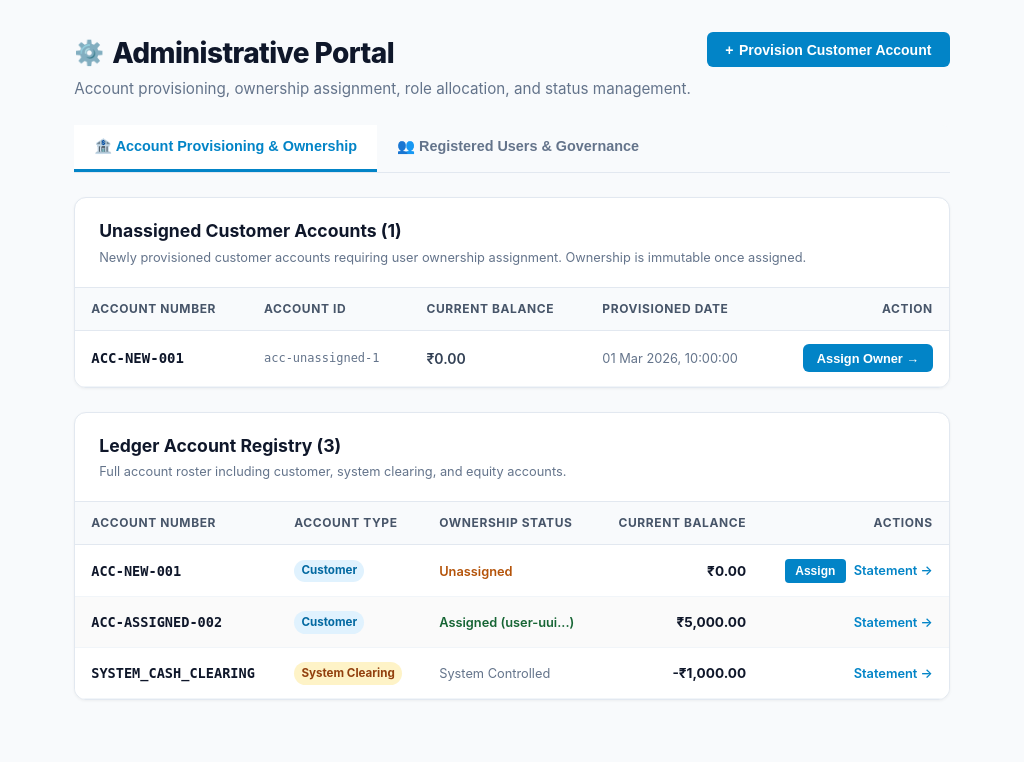
Scenario: Admin Portal Component & Integration Suite (Stage 6) › 5. AdminPortalPage Integration › fetches accounts and registered users and links directory selection to governance controls
Check: the heading "Administrative Portal" is shown, box [112,32,394,74]
Check: the heading "Unassigned Customer Accounts (1)" is shown, box [99,220,402,241]
// Switch to Registered Users & Governance tab
Click the button with test id "admin-tab-users": click(518, 148) [377,125,659,172]
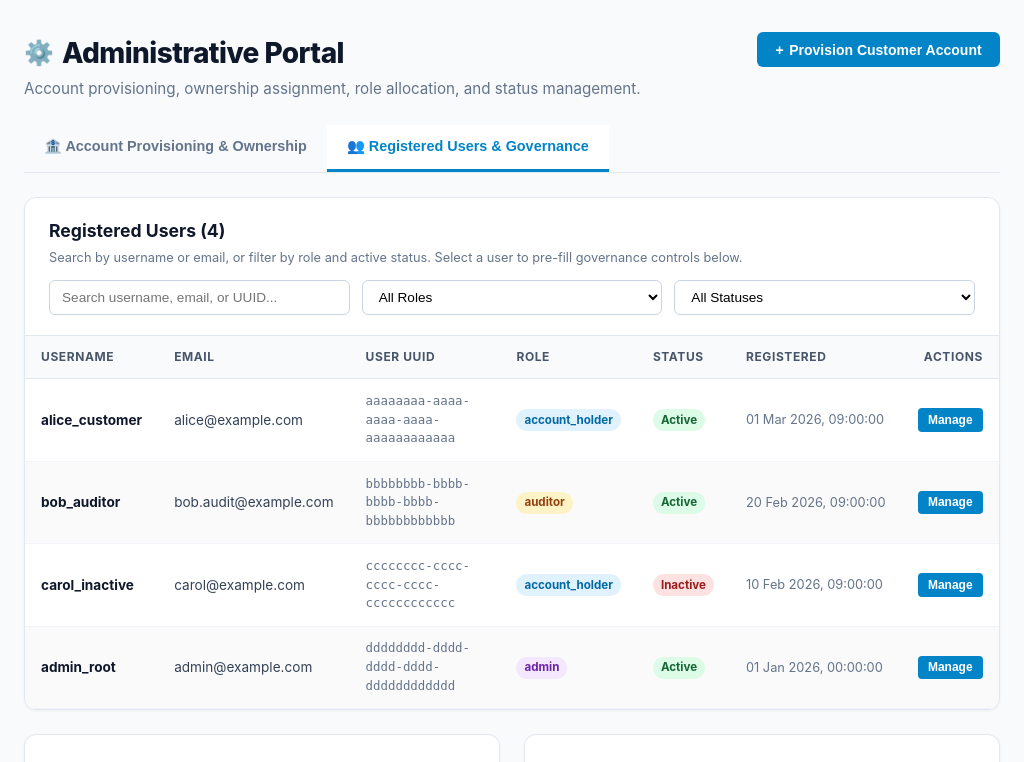
Check: the heading "Registered Users (4)" is shown, box [49,220,225,241]
Click the button "Manage" in the row of "alice_customer": click(950, 420) [918,408,983,432]
(page scrolled)
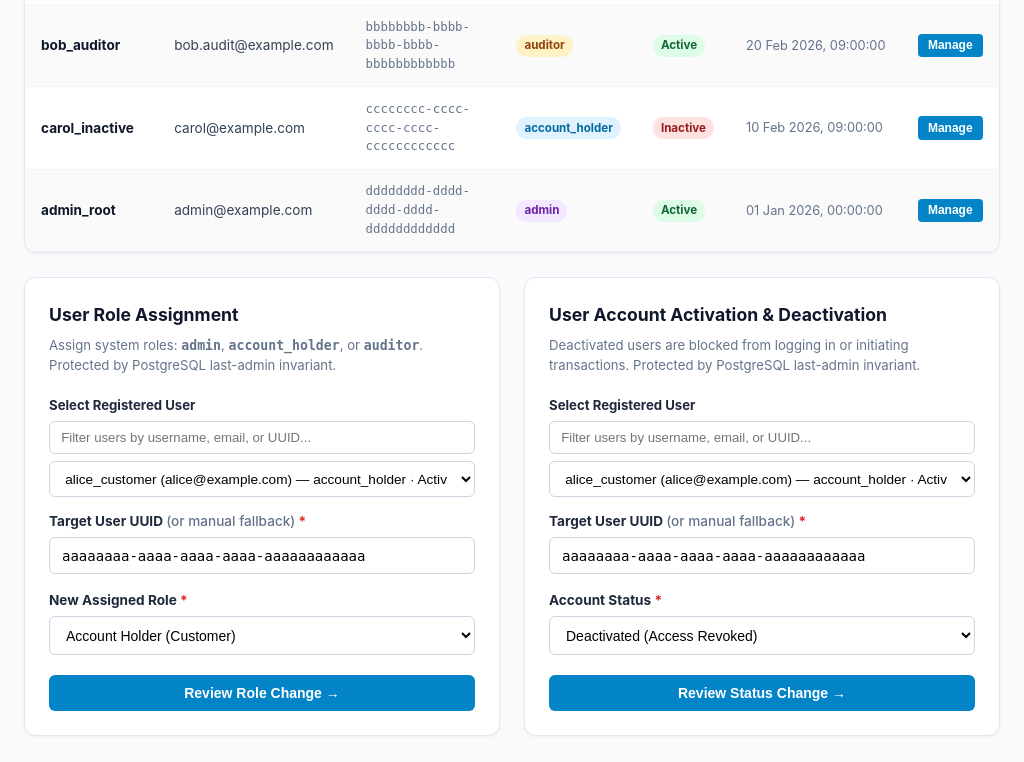
Check: the field with test id "input-role-user-id" holds "aaaaaaaa-aaaa-aaaa-aaaa-aaaaaaaaaaaa", box [49,537,475,574]
Check: the field with test id "input-status-user-id" holds "aaaaaaaa-aaaa-aaaa-aaaa-aaaaaaaaaaaa", box [549,537,975,574]
